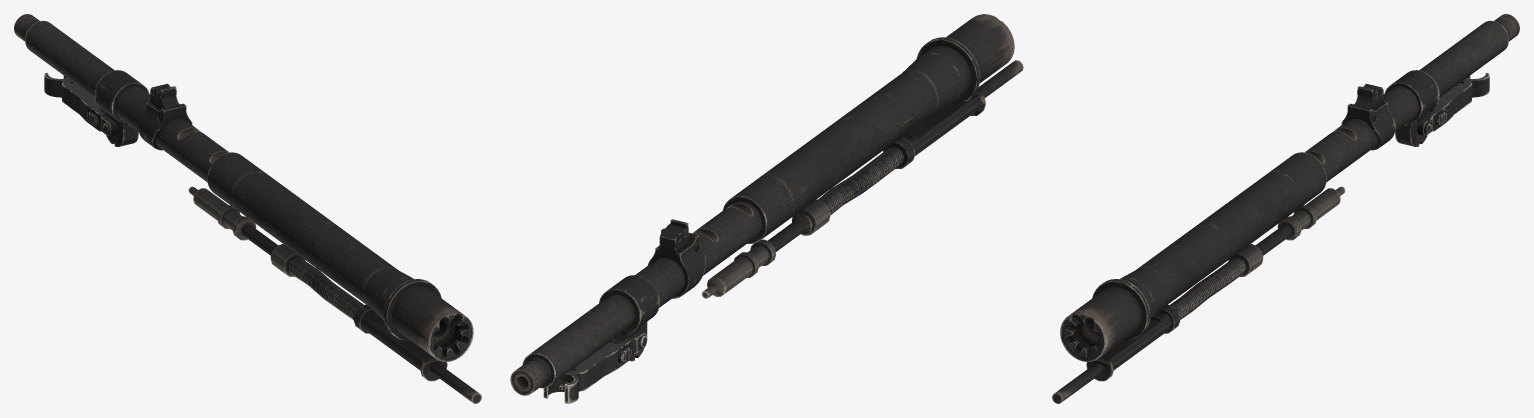
3 renders of one model, left to right at view 1: azimuth 30°, elevation 25°; view 2: azimuth 150°, elevation 25°; view 3: azimuth 330°, elevation 25°, orthographic. The views are drawn at different scales.
Visible parts, largest first — view 1: TW_5bb20d9cd4351e00334c9d8a_folded_PZ_Import; view 2: TW_5bb20d9cd4351e00334c9d8a_folded_PZ_Import; view 3: TW_5bb20d9cd4351e00334c9d8a_folded_PZ_Import.
Boxes of the visible parts, x1,y1,x2,y2 form: TW_5bb20d9cd4351e00334c9d8a_folded_PZ_Import: (14, 14, 481, 403); TW_5bb20d9cd4351e00334c9d8a_folded_PZ_Import: (510, 14, 1023, 403); TW_5bb20d9cd4351e00334c9d8a_folded_PZ_Import: (1052, 14, 1519, 403).
Size of the model in its own units: 0.017 by 0.2382 by 0.0284.
1 material, 1 textured.
